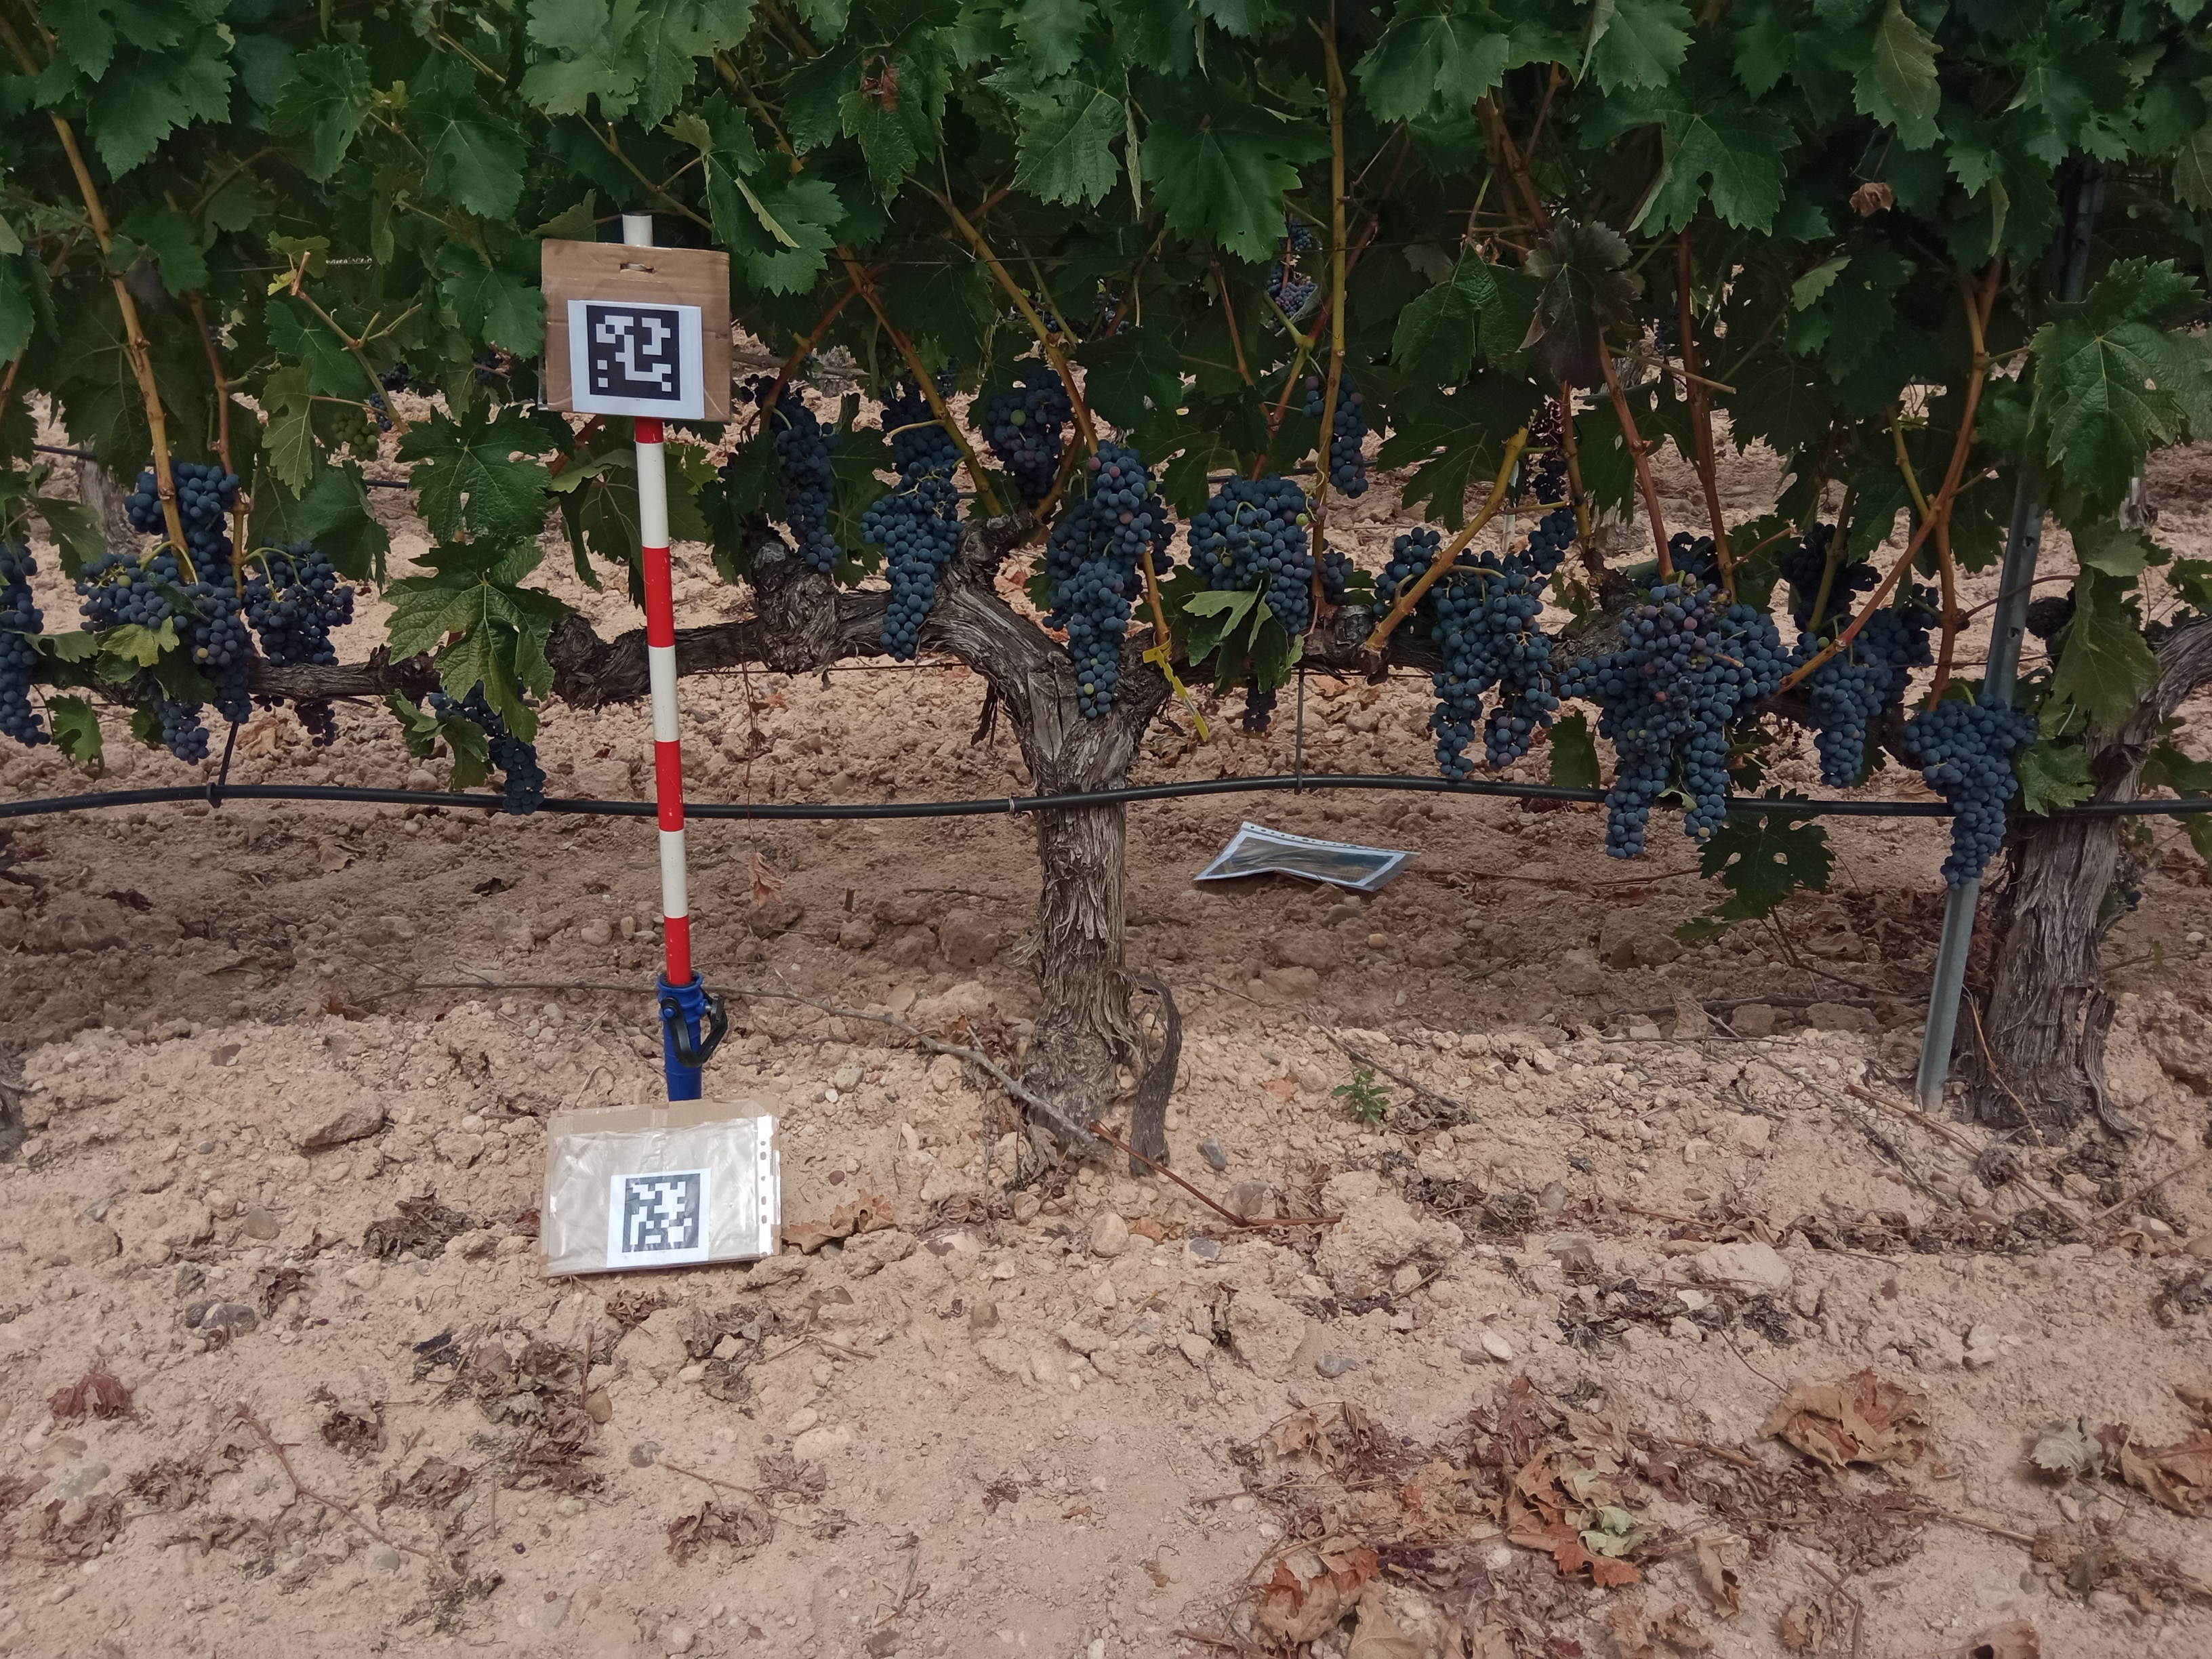grapes: (1552, 584, 1791, 861), (1043, 430, 1151, 718), (1430, 551, 1552, 782), (1904, 694, 2038, 892), (1804, 594, 1940, 789), (1188, 472, 1350, 631), (179, 446, 260, 723), (862, 484, 963, 662), (244, 540, 357, 660), (986, 375, 1069, 509), (0, 544, 49, 753), (777, 420, 843, 573), (1780, 521, 1874, 620), (73, 554, 186, 634), (880, 396, 965, 484), (139, 676, 209, 763), (1369, 523, 1439, 610), (488, 728, 547, 817), (1332, 375, 1367, 500), (122, 467, 165, 537), (329, 408, 383, 464), (434, 685, 502, 728), (1534, 507, 1576, 572), (291, 701, 345, 748), (1670, 530, 1714, 579), (1244, 680, 1278, 734), (1153, 495, 1174, 570), (779, 387, 819, 425), (1785, 627, 1827, 660), (1301, 371, 1327, 416)
